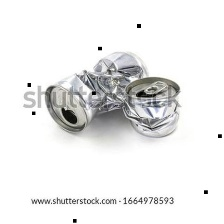can: (41, 43, 150, 136), (121, 73, 185, 140)
